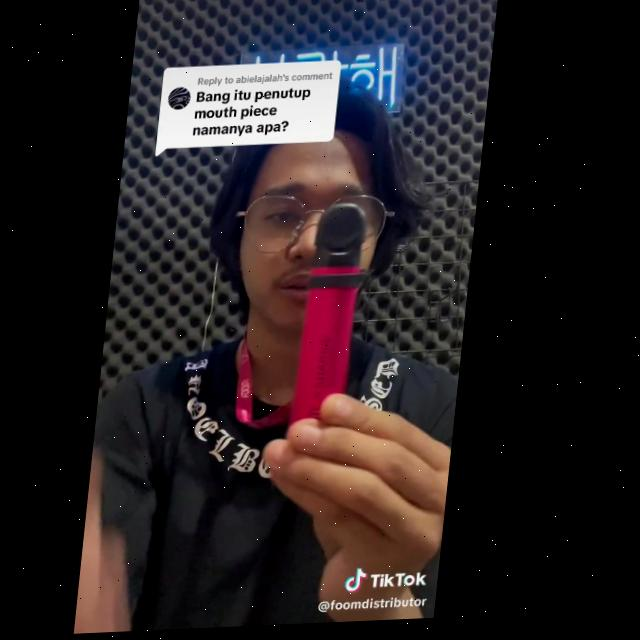vape: (297, 204, 372, 437)
